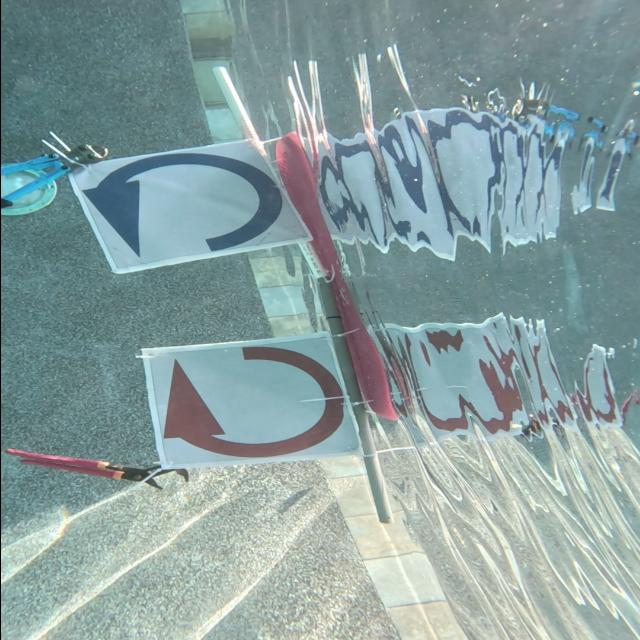blue_side: (94, 146, 293, 272)
red_side: (148, 344, 350, 456)
